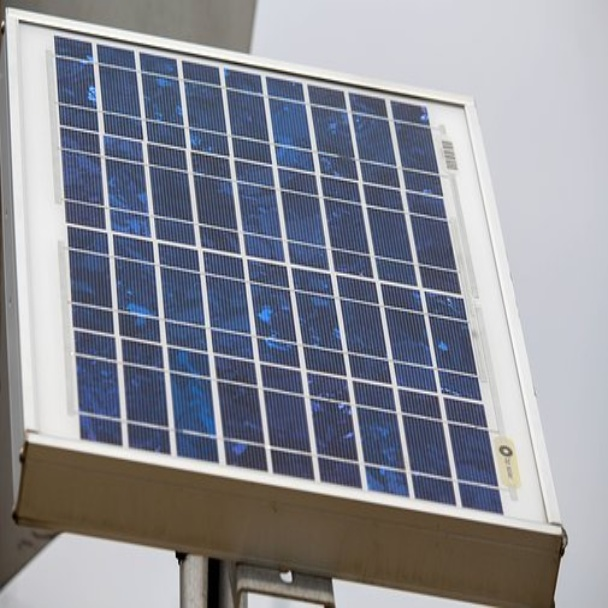solarpanels: (48, 31, 522, 527)
